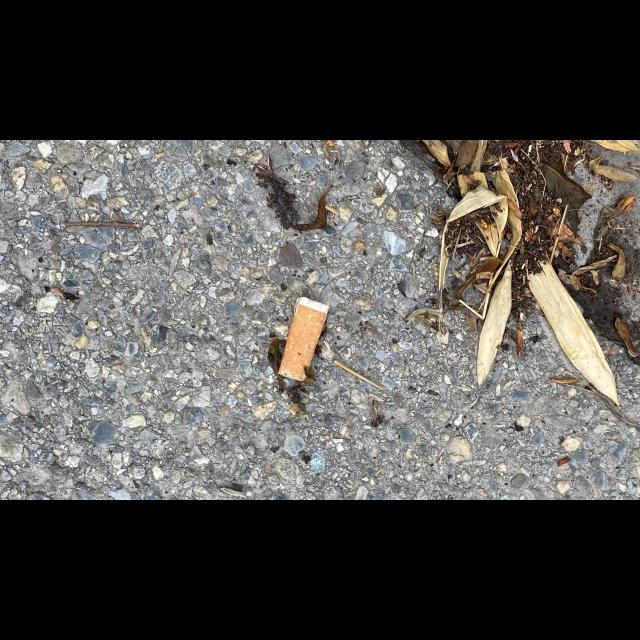cigarette: (276, 295, 330, 383)
